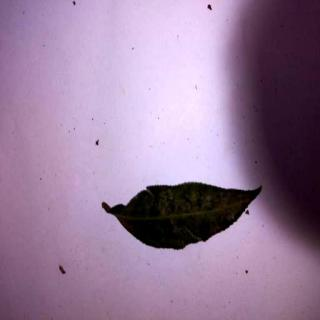Anthracnose: (102, 182, 262, 251)
